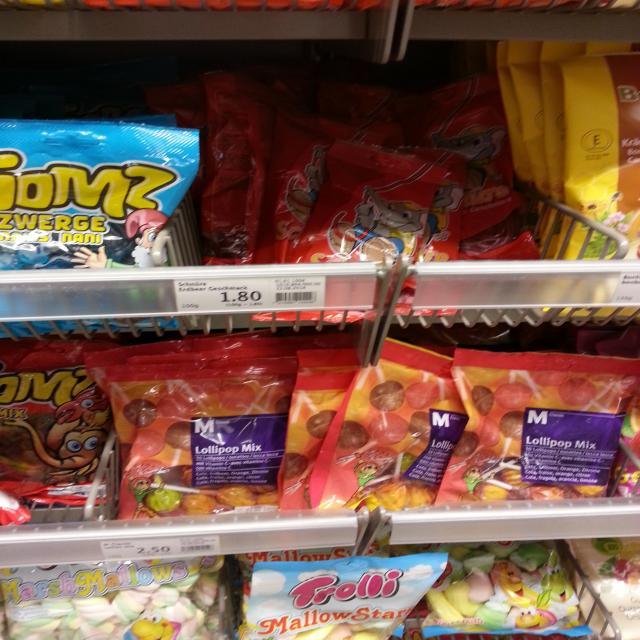Bombons: (0, 120, 201, 327), (250, 145, 447, 322), (436, 347, 640, 501), (307, 332, 471, 513), (107, 360, 294, 518), (231, 554, 446, 640), (0, 556, 220, 640), (418, 541, 594, 640), (2, 367, 108, 506)
